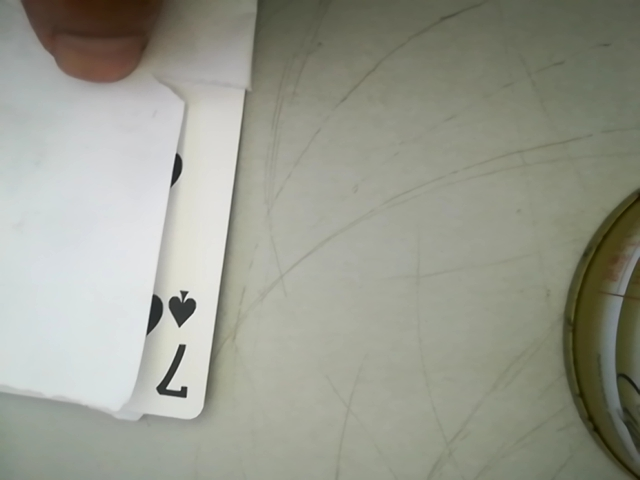ht 7: (136, 271, 211, 416)
